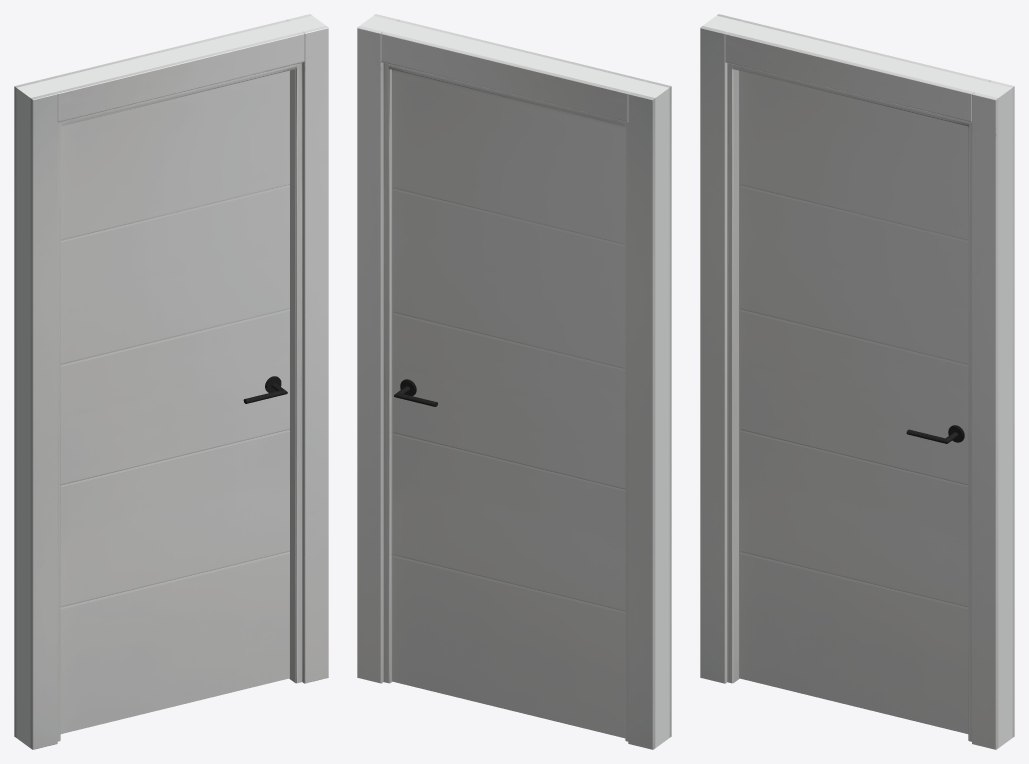
Rendered from door.glb.
3 renders of one model, left to right at view 1: azimuth 30°, elevation 25°; view 2: azimuth 150°, elevation 25°; view 3: azimuth 330°, elevation 25°, orthographic.
Visible parts, largest first — view 1: object 3, Difference2 (×2); view 2: object 3, Difference2 (×2); view 3: object 3, Difference2 (×2).
Part boxes in pixels (bbox=[...]): object 3: bbox=[60, 70, 289, 733]; Difference2 (×2): bbox=[14, 14, 328, 749]; object 3: bbox=[391, 69, 625, 738]; Difference2 (×2): bbox=[357, 14, 671, 749]; object 3: bbox=[739, 70, 968, 733]; Difference2 (×2): bbox=[700, 14, 1014, 749].
Size of the model in its own units: 1.01 by 2.12 by 0.1808.
6 materials, 4 textured.
